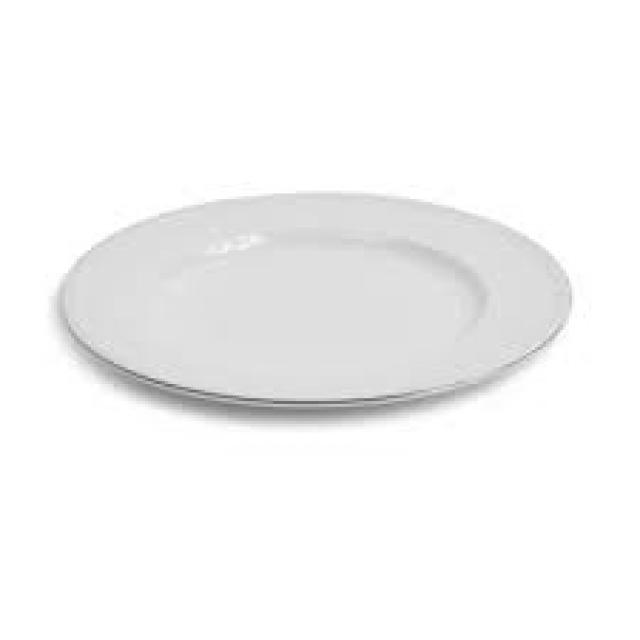dish: (28, 155, 589, 439)
